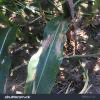Corn leaf blight: (23, 18, 73, 92)
